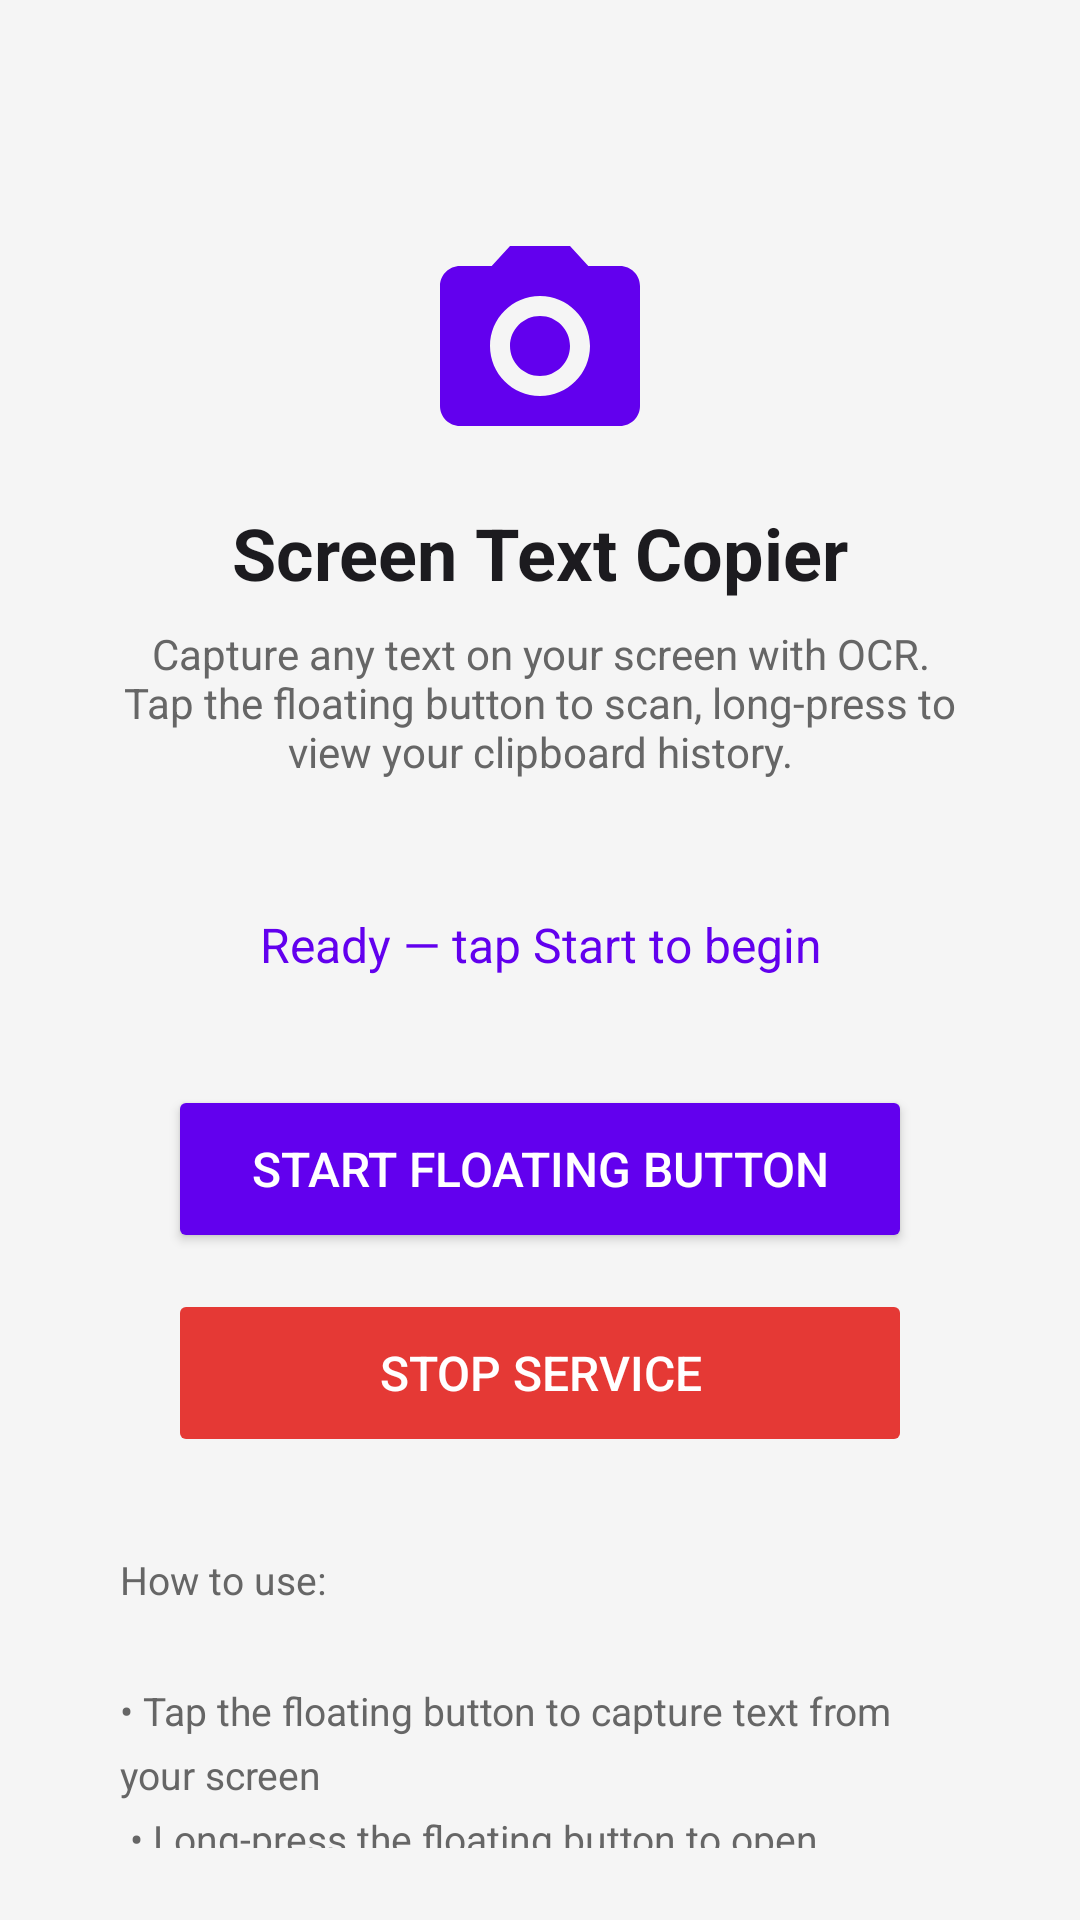

Where to tap for icons on this 1080w x 1920h app screen, as (x=x, y=y):
capture: (x=540, y=336)
